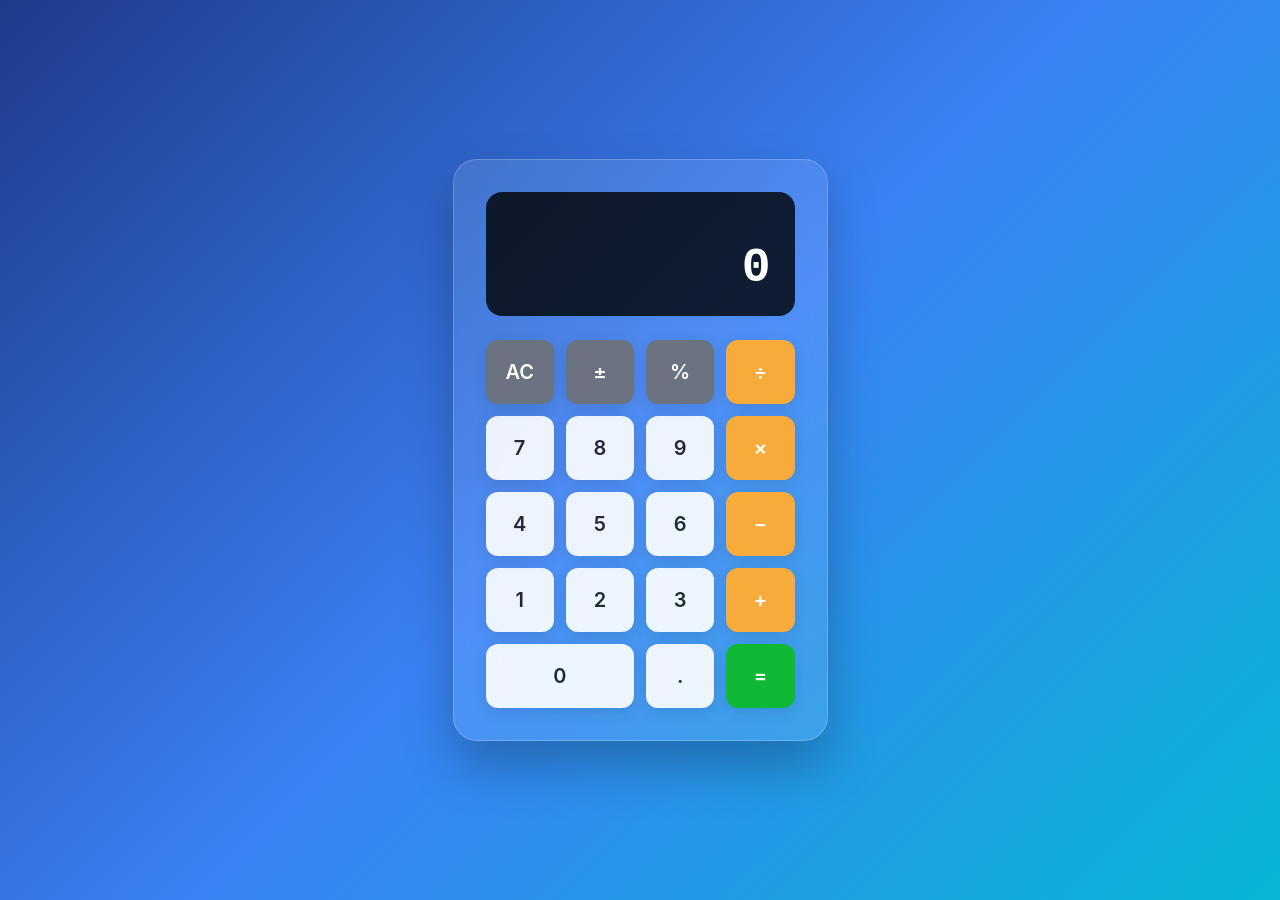
Test: Calculator UI Tests - User Interface Validation › should perform basic arithmetic with visible operator buttons
Expected: the button "+" is shown, [726,568,795,632]
Expected: the button "3" is shown, [646,568,714,632]
Realizar operación
Click the button "5": x=600, y=524 [566,492,634,556]
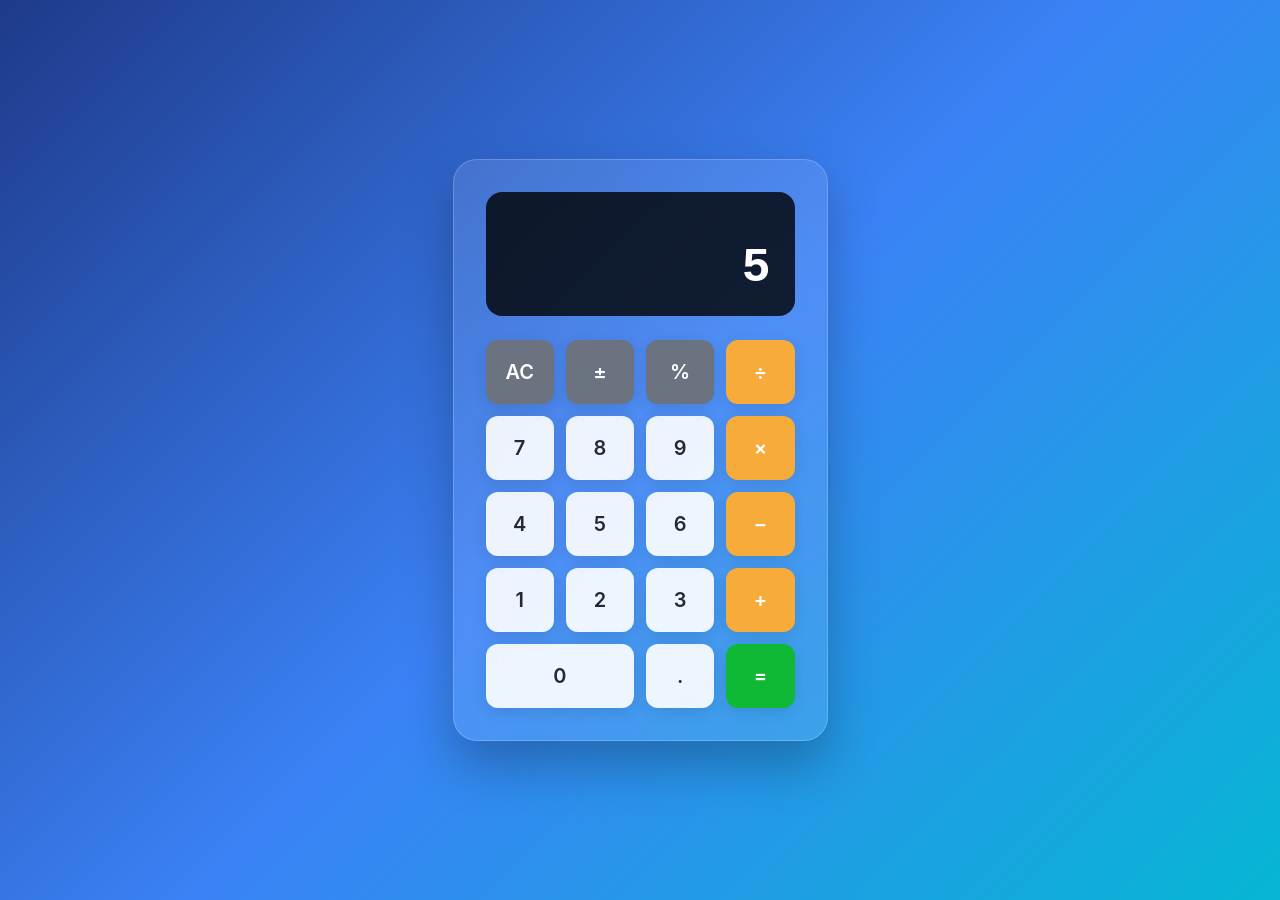
Click the button "+": x=760, y=600 [726,568,795,632]
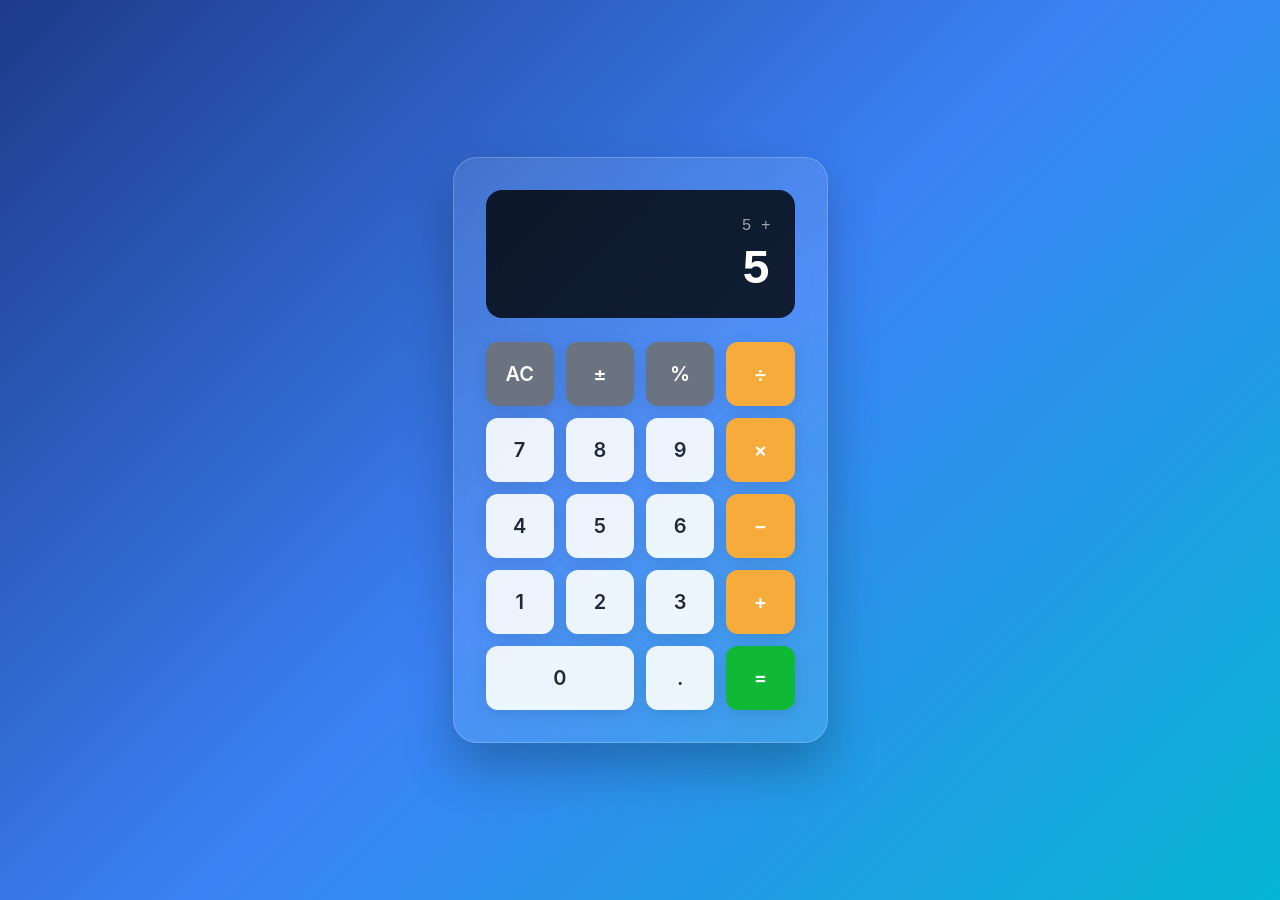
Click the button "3": x=680, y=602 [646,570,714,634]
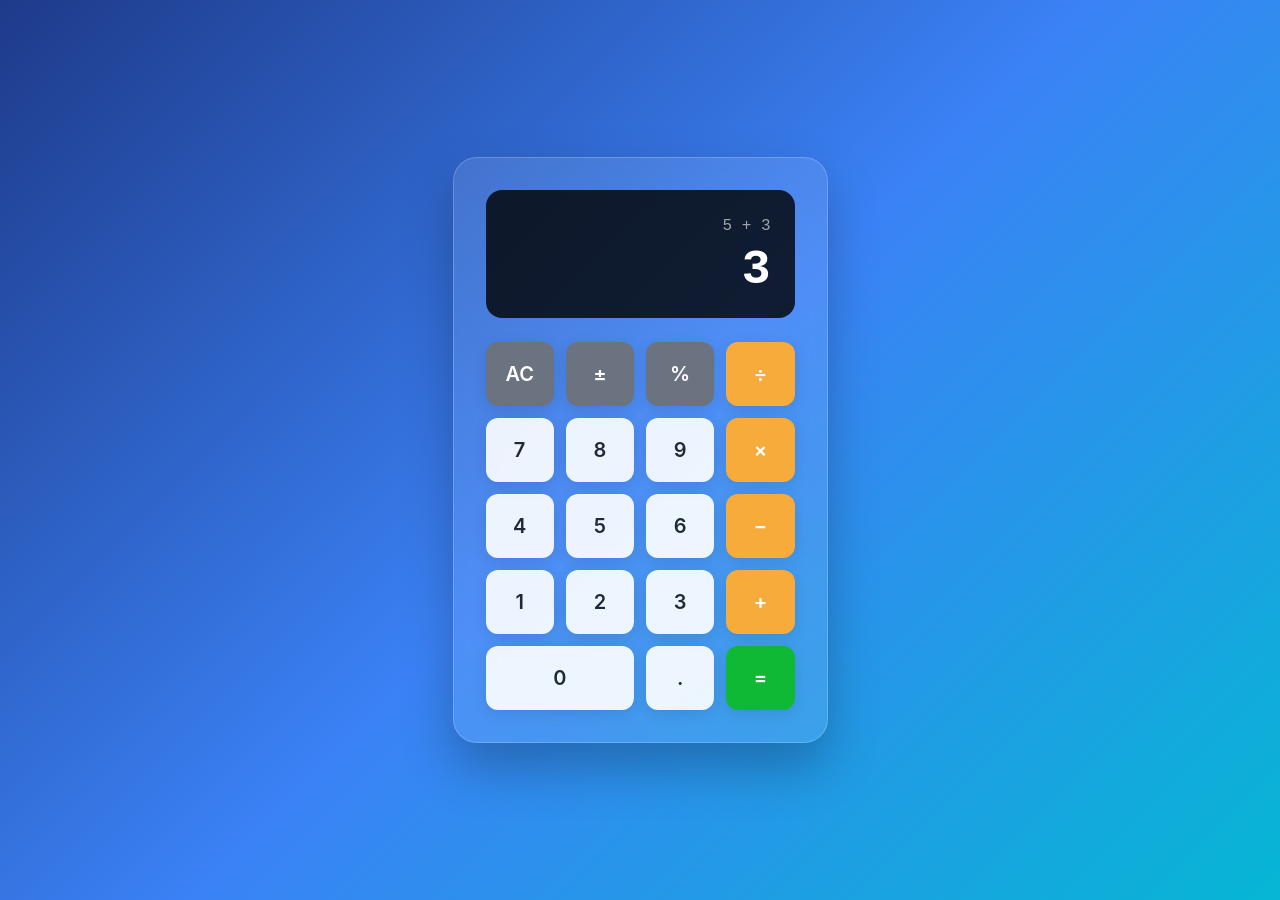
Click the button "=": x=760, y=678 [726,646,795,710]
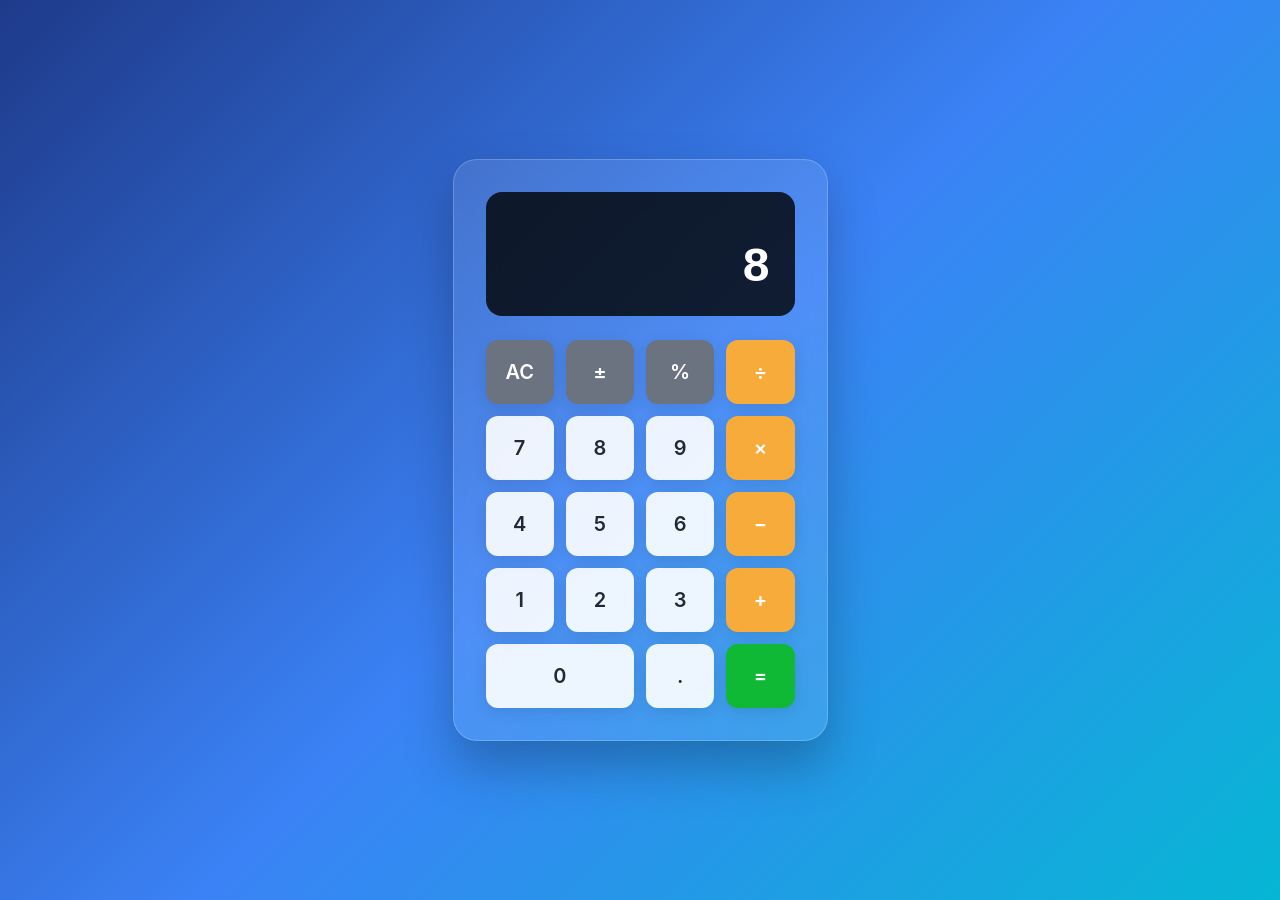
Result: the text with test id "calculator-display" reads "8" at [742,241,770,295]
